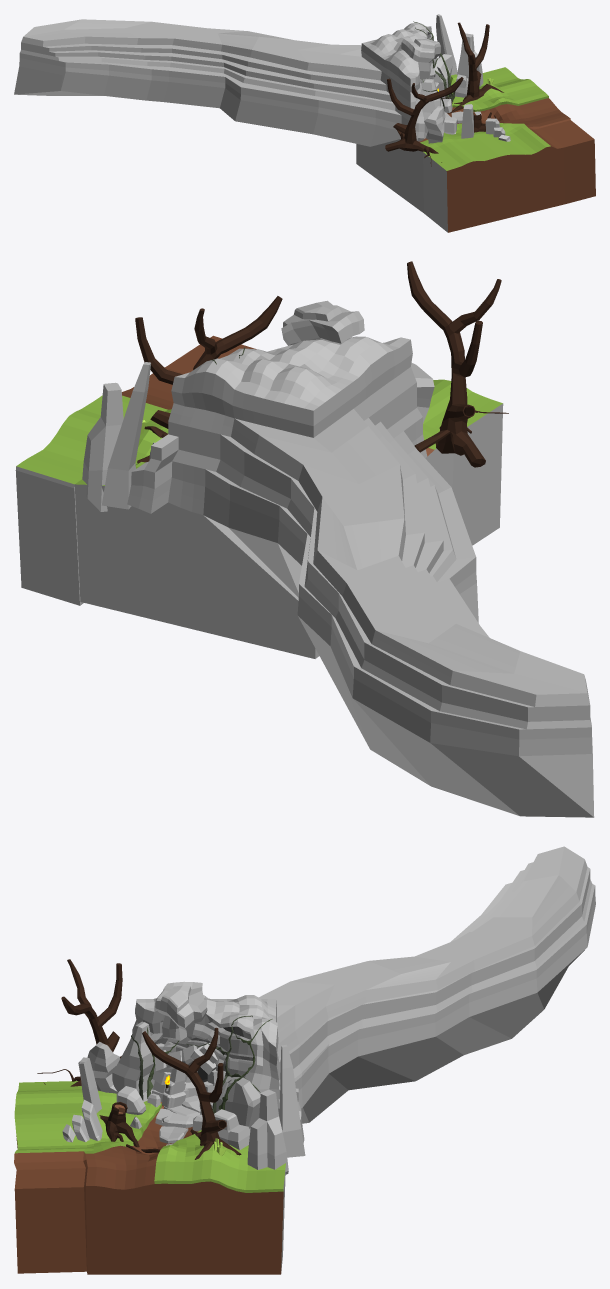
The model's file is DungeonModel.glb.
The picture shows the model from 3 angles, top to bottom: view 1: azimuth 30°, elevation 25°; view 2: azimuth 150°, elevation 25°; view 3: azimuth 270°, elevation 25°; orthographic projection. The views are drawn at different scales.
Parts seen in each view (by area): view 1: Tree1, Cube.002, Cube.001; view 2: Tree1, Cube.002, Cube.001; view 3: Tree1, Cube.001, Cube.002.
Boxes of the visible parts, x1,y1,x2,y2 form: Tree1: (14,14,595,232); Cube.002: (385,77,463,166); Cube.001: (442,22,503,113); Tree1: (15,300,594,817); Cube.002: (407,261,508,467); Cube.001: (135,296,282,463); Tree1: (14,846,595,1274); Cube.001: (142,1027,241,1159); Cube.002: (37,959,122,1086).
Bounding box in the file's own units: 133 × 46.98 × 120.
1 material, 1 textured.
